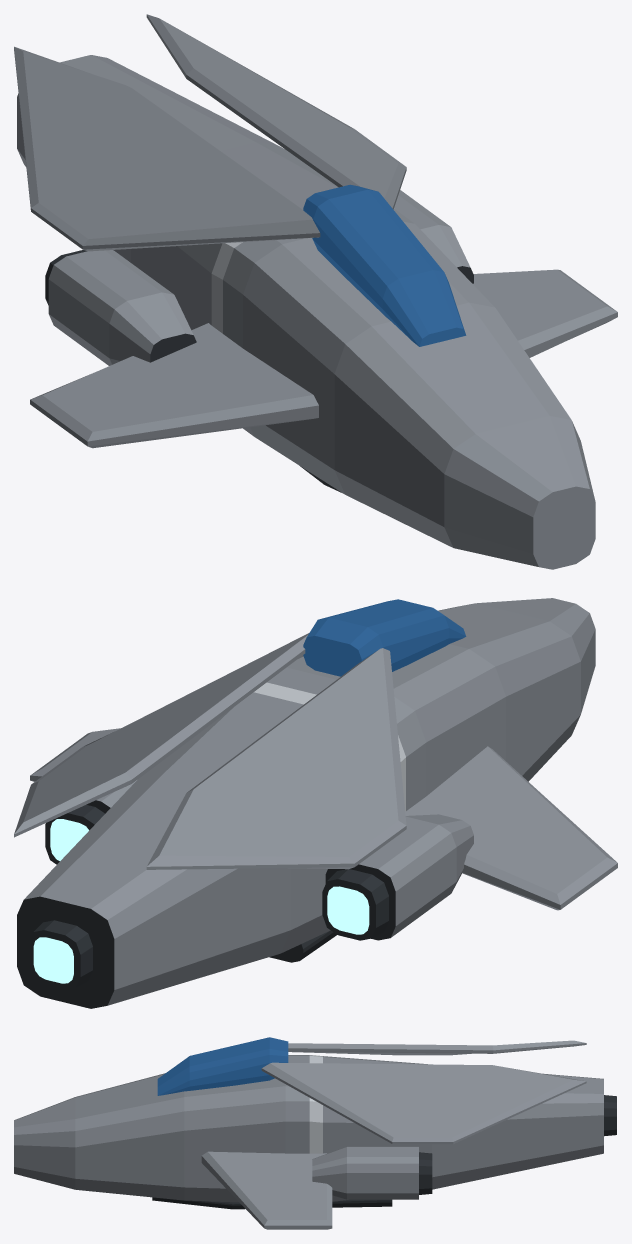
Rendered from diamondback-explorer.glb.
3 views of the same model, one above another, from view 1: azimuth 30°, elevation 25°; view 2: azimuth 150°, elevation 25°; view 3: azimuth 270°, elevation 25° (orthographic). The views are drawn at different scales.
Visible parts, largest first — view 1: diamondback-explorer; view 2: diamondback-explorer; view 3: diamondback-explorer.
Part boxes in pixels (box(x1,y1,x2,y2)): diamondback-explorer: box(14, 14, 617, 569); diamondback-explorer: box(14, 598, 617, 1008); diamondback-explorer: box(14, 1037, 616, 1229).
Size of the model in its own units: 27.2 by 12.6 by 45.35.
